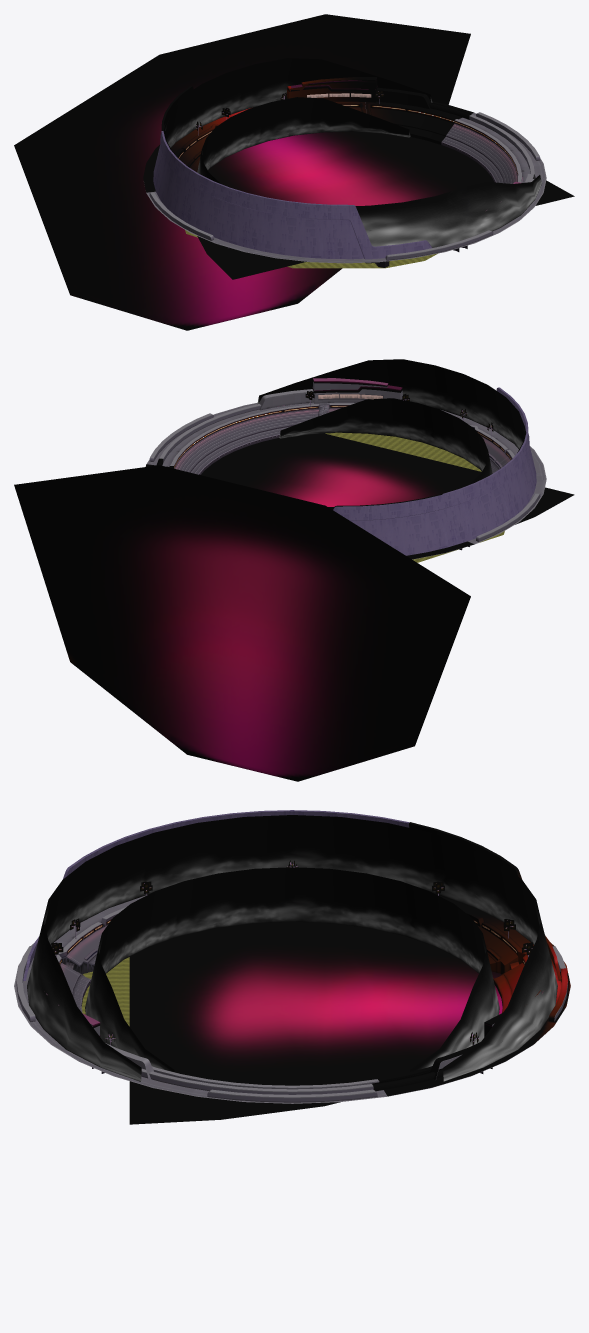
The model's file is breadStationMainObject_shieldDown.fbx.
The picture shows the model from 3 angles, top to bottom: view 1: azimuth 30°, elevation 25°; view 2: azimuth 150°, elevation 25°; view 3: azimuth 270°, elevation 25°; orthographic projection. The views are drawn at different scales.
Parts seen in each view (by area): view 1: breadStationBackgroundGlowGeo, breadStationSurfaceGlowGeo, breadStationFogScrollingShieldDownGeo, breadStationPhysicalWallShieldDownGeo, breadStationRingShieldDownGeo, breadStationGrassFogScrollingShieldDownGeo, breadStationGroundShieldDownGeo, breadStationViewingDecksShieldDownGeo; view 2: breadStationBackgroundGlowGeo, breadStationSurfaceGlowGeo, breadStationPhysicalWallShieldDownGeo, breadStationRingShieldDownGeo, breadStationFogScrollingShieldDownGeo, breadStationGrassFogScrollingShieldDownGeo, breadStationViewingDecksShieldDownGeo, breadStationGroundShieldDownGeo; view 3: breadStationSurfaceGlowGeo, breadStationFogScrollingShieldDownGeo, breadStationGrassFogScrollingShieldDownGeo, breadStationRingShieldDownGeo, breadStationPhysicalWallShieldDownGeo, breadStationGroundShieldDownGeo, breadStationViewingDecksShieldDownGeo.
Part boxes in pixels (x1,y1,x2,y2): breadStationBackgroundGlowGeo: (14,14,470,330); breadStationSurfaceGlowGeo: (143,77,574,279); breadStationFogScrollingShieldDownGeo: (163,58,541,247); breadStationPhysicalWallShieldDownGeo: (153,131,431,259); breadStationRingShieldDownGeo: (146,102,546,267); breadStationGrassFogScrollingShieldDownGeo: (197,97,410,184); breadStationGroundShieldDownGeo: (185,230,437,268); breadStationViewingDecksShieldDownGeo: (287,78,535,210); breadStationBackgroundGlowGeo: (14,465,470,781); breadStationSurfaceGlowGeo: (145,433,574,559); breadStationPhysicalWallShieldDownGeo: (333,387,536,555); breadStationRingShieldDownGeo: (146,402,546,559); breadStationFogScrollingShieldDownGeo: (257,359,526,509); breadStationGrassFogScrollingShieldDownGeo: (279,398,492,485); breadStationViewingDecksShieldDownGeo: (258,378,402,410); breadStationGroundShieldDownGeo: (325,432,504,562); breadStationSurfaceGlowGeo: (129,822,570,1124); breadStationFogScrollingShieldDownGeo: (27,815,557,1081); breadStationGrassFogScrollingShieldDownGeo: (85,867,499,1072); breadStationRingShieldDownGeo: (14,895,567,1103); breadStationPhysicalWallShieldDownGeo: (23,810,409,980); breadStationGroundShieldDownGeo: (81,957,129,1026); breadStationViewingDecksShieldDownGeo: (46,991,543,1080).
Bounding box in the file's own units: 10.08 × 5.96 × 7.77.
